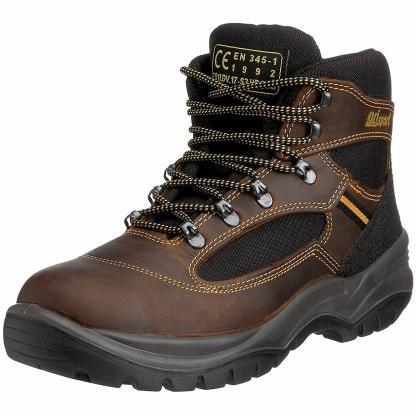bota: (7, 25, 413, 391)
